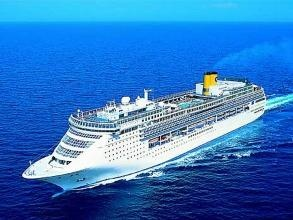youlun: (15, 72, 269, 197)
